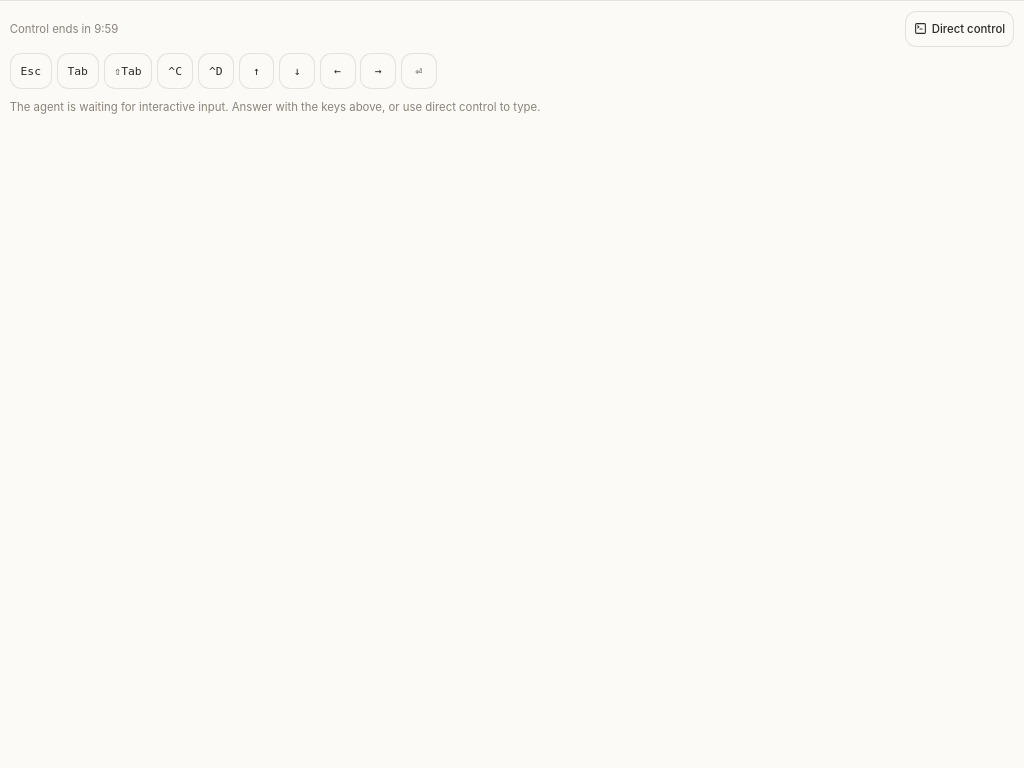
Test case: says the working directory is not shared, and an empty screen is shown as empty
Click the button named "Enter" at [419, 71], box [401,53,437,89]
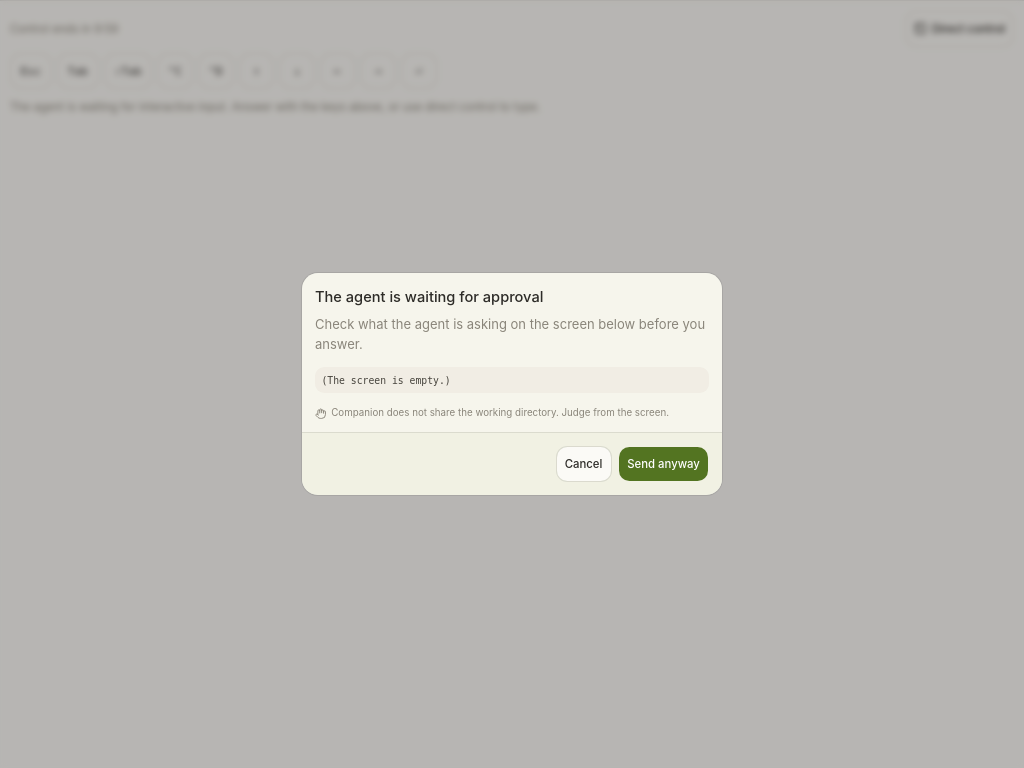
Expected: the text "does not share the working directory" is shown, [331,408,669,418]
Expected: the text "(The screen is empty.)" is shown, [322,374,451,386]
